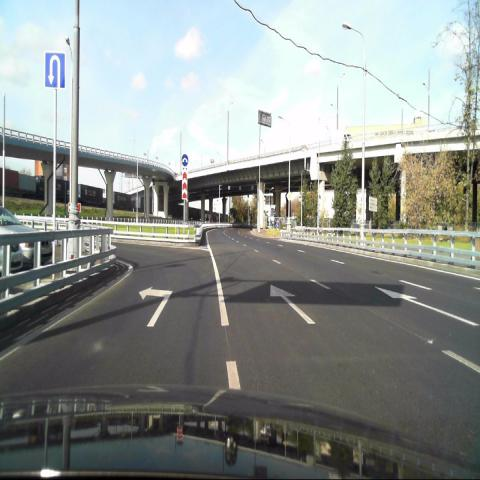6_3_1: (45, 51, 66, 89)
